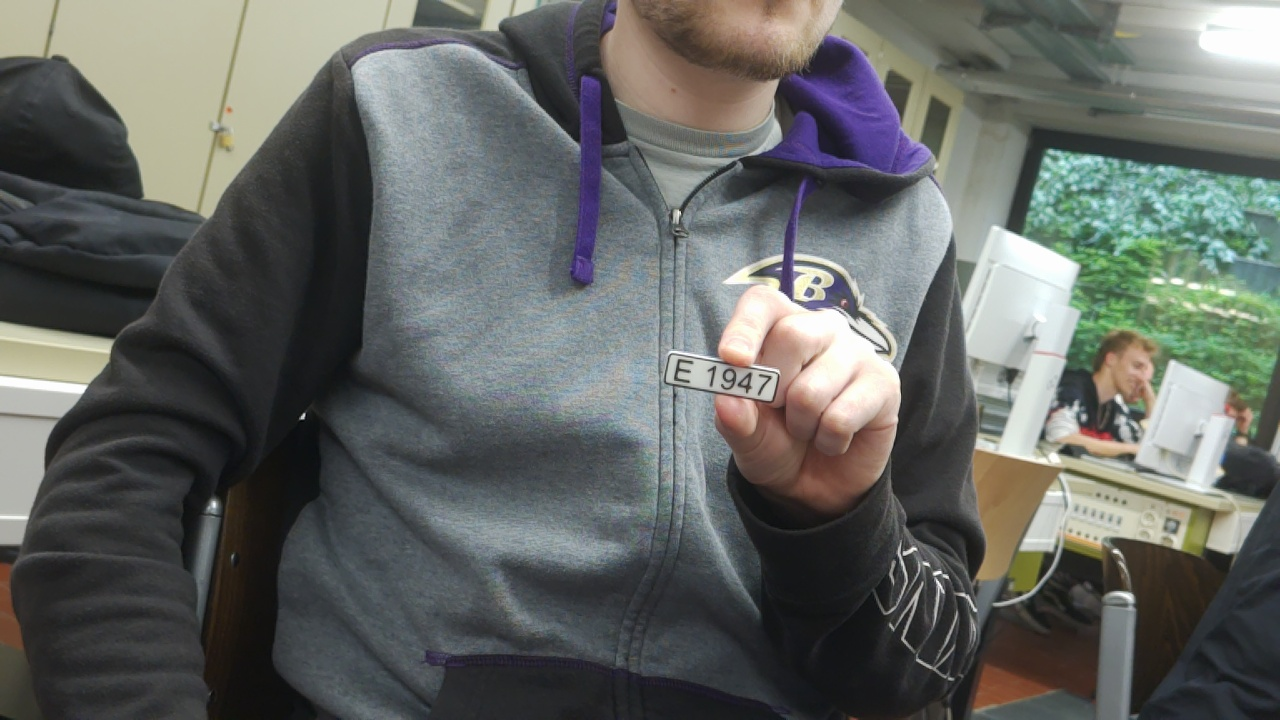license_plate: (655, 345, 787, 414)
